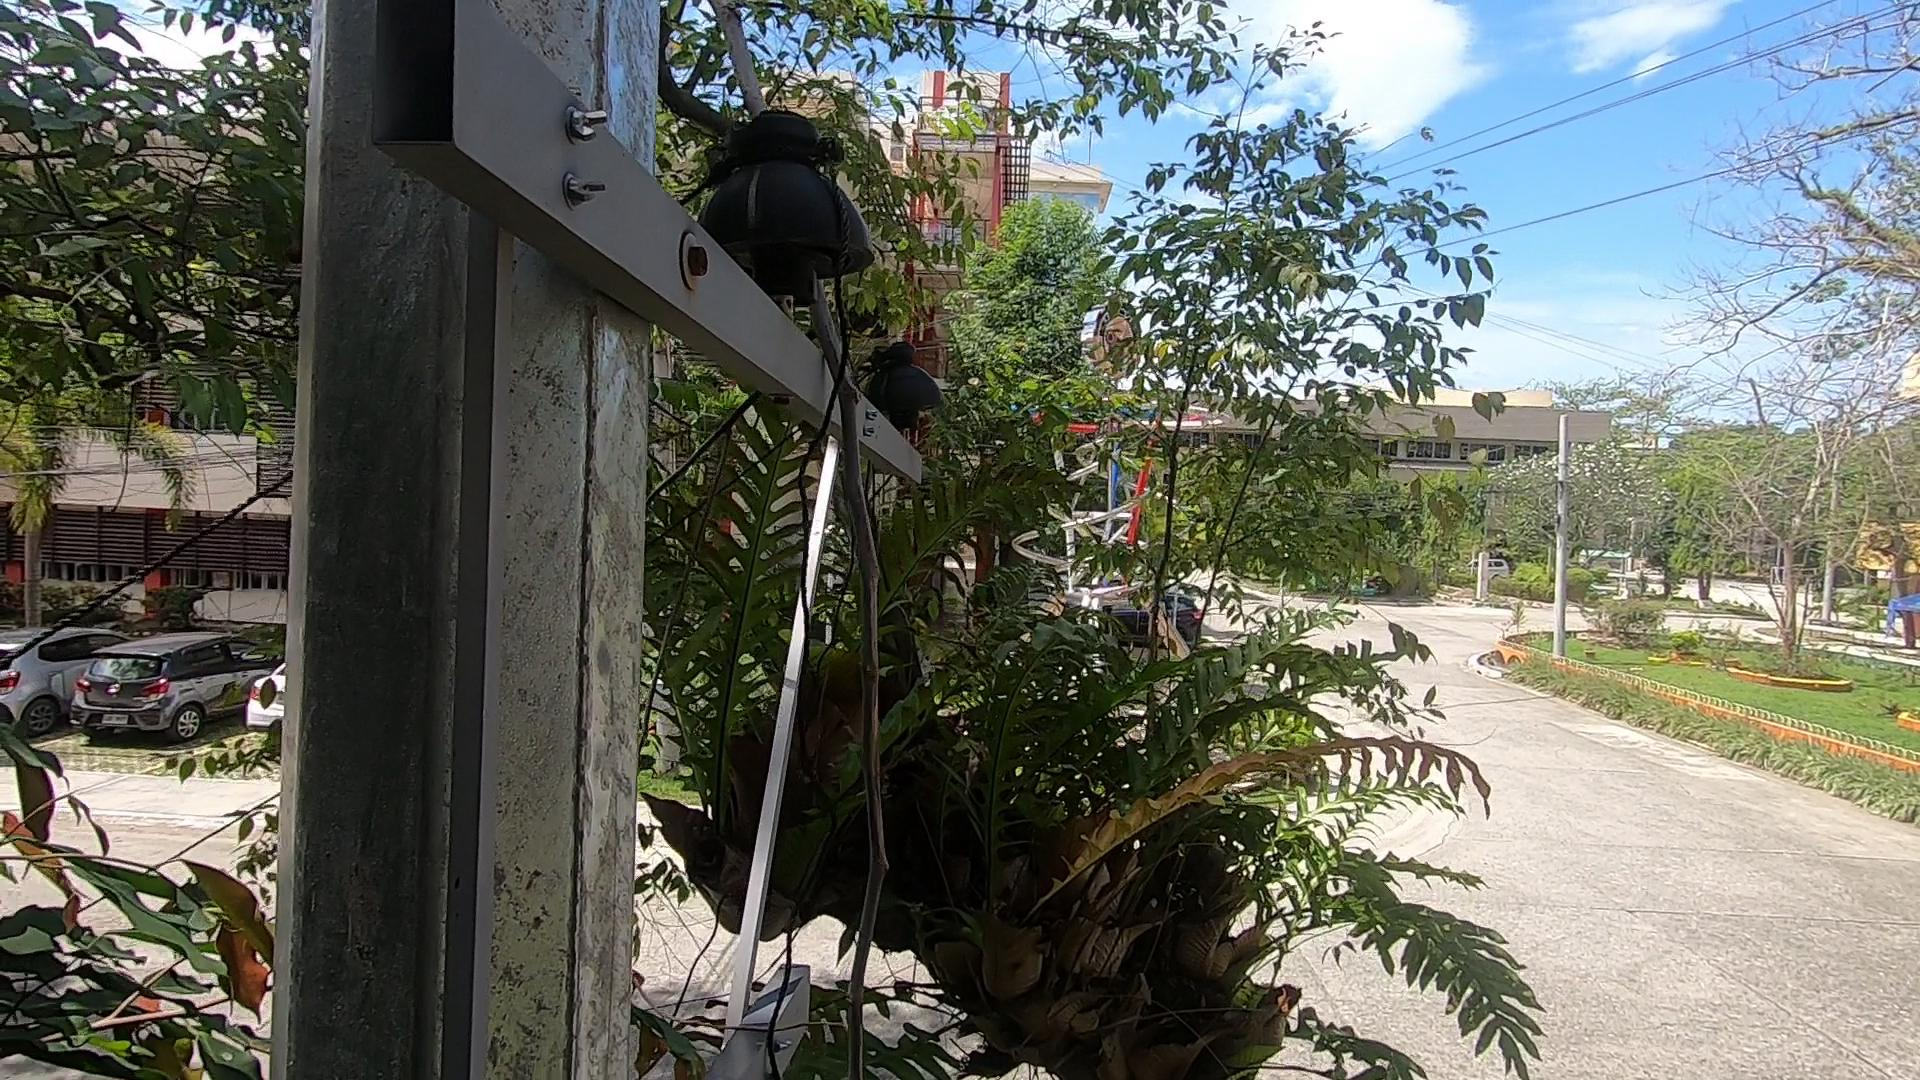tree branch: (674, 9, 990, 1075)
